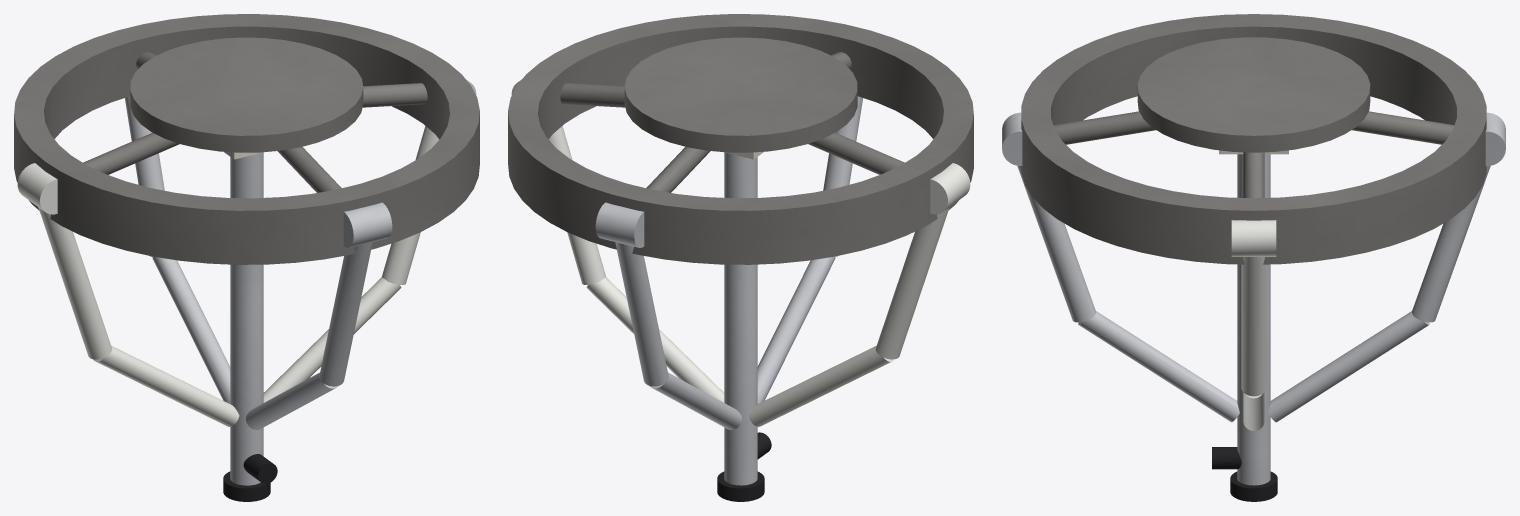
File: station16_capture_claw_s_closed.glb
3 renders of one model, left to right at view 1: azimuth 30°, elevation 25°; view 2: azimuth 150°, elevation 25°; view 3: azimuth 270°, elevation 25°, orthographic.
Visible parts, largest first — view 1: ring, top_plate, finger_3, boom, finger_4, finger_2, finger_1, boom_tip; view 2: ring, top_plate, boom, finger_3, finger_2, finger_4, finger_1, boom_tip; view 3: ring, top_plate, finger_2, finger_4, finger_1, boom, boom_tip.
Boxes of the visible parts, x1,y1,x2,y2 form: ring: [14, 14, 479, 264]; top_plate: [130, 37, 363, 152]; finger_3: [17, 163, 239, 426]; boom: [230, 152, 263, 485]; finger_4: [246, 202, 392, 429]; finger_2: [125, 96, 230, 403]; finger_1: [263, 79, 476, 402]; boom_tip: [223, 454, 277, 501]; ring: [508, 14, 973, 264]; top_plate: [624, 37, 857, 152]; boom: [724, 152, 757, 485]; finger_3: [748, 163, 970, 426]; finger_2: [595, 202, 741, 429]; finger_4: [757, 96, 862, 403]; finger_1: [511, 79, 724, 402]; boom_tip: [717, 432, 771, 501]; ring: [1021, 14, 1486, 264]; top_plate: [1137, 37, 1370, 152]; finger_2: [1268, 112, 1505, 422]; finger_4: [1002, 112, 1239, 422]; finger_1: [1231, 220, 1276, 430]; boom: [1237, 154, 1270, 485]; boom_tip: [1212, 447, 1277, 501].
Size of the model in its own units: 1.35 by 1.2 by 1.35.
5 materials, 3 textured.
